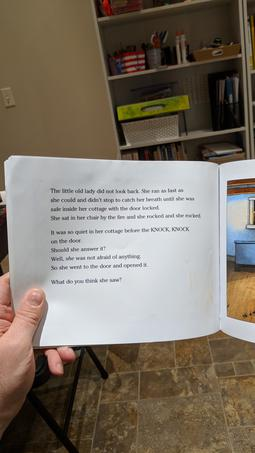text block: (36, 180, 204, 293)
